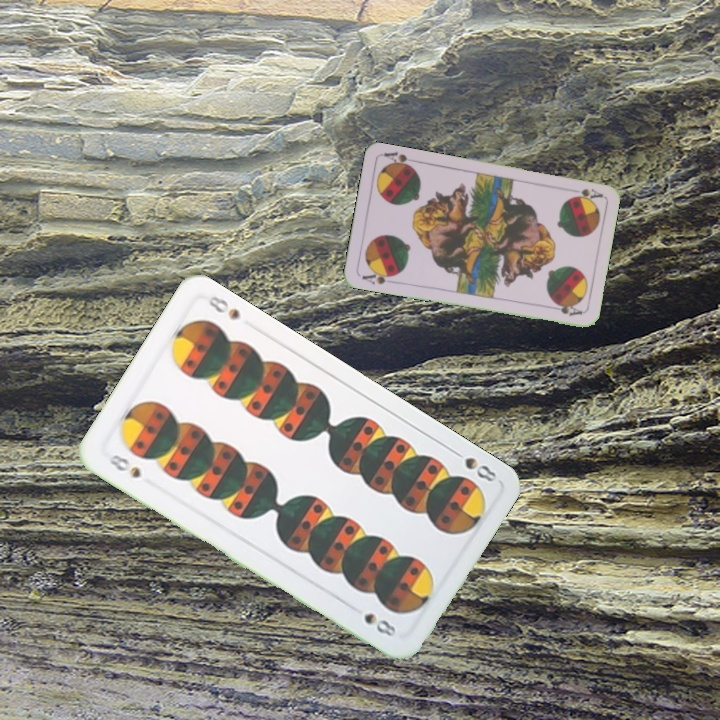S8: (447, 445, 499, 485), (104, 450, 144, 481)
SA: (358, 266, 399, 287), (564, 185, 605, 204)
